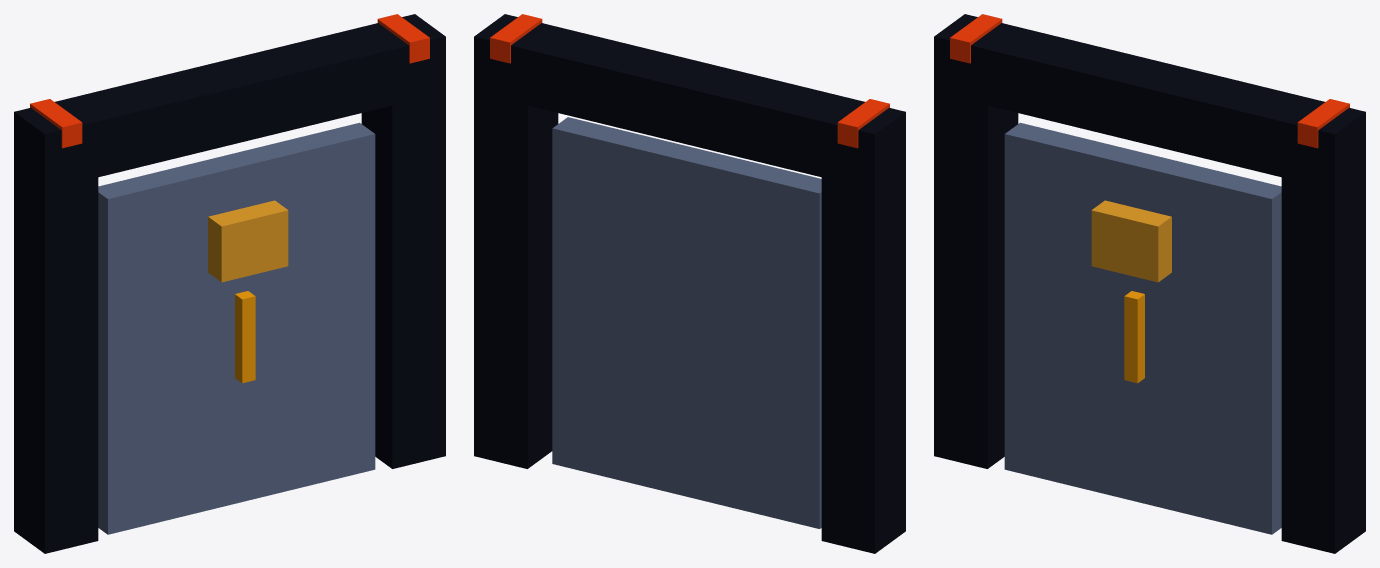
The model's file is airlock_door.obj.
The picture shows the model from 3 angles, left to right: view 1: azimuth 30°, elevation 25°; view 2: azimuth 150°, elevation 25°; view 3: azimuth 330°, elevation 25°; orthographic projection.
Parts seen in each view (by area): view 1: airlock_door; view 2: airlock_door; view 3: airlock_door.
Part boxes in pixels (<box>): airlock_door: <box>14,14,445,553</box>; airlock_door: <box>474,14,905,553</box>; airlock_door: <box>934,14,1365,553</box>.
Size of the model in its own units: 3 by 3.03 by 0.535.
